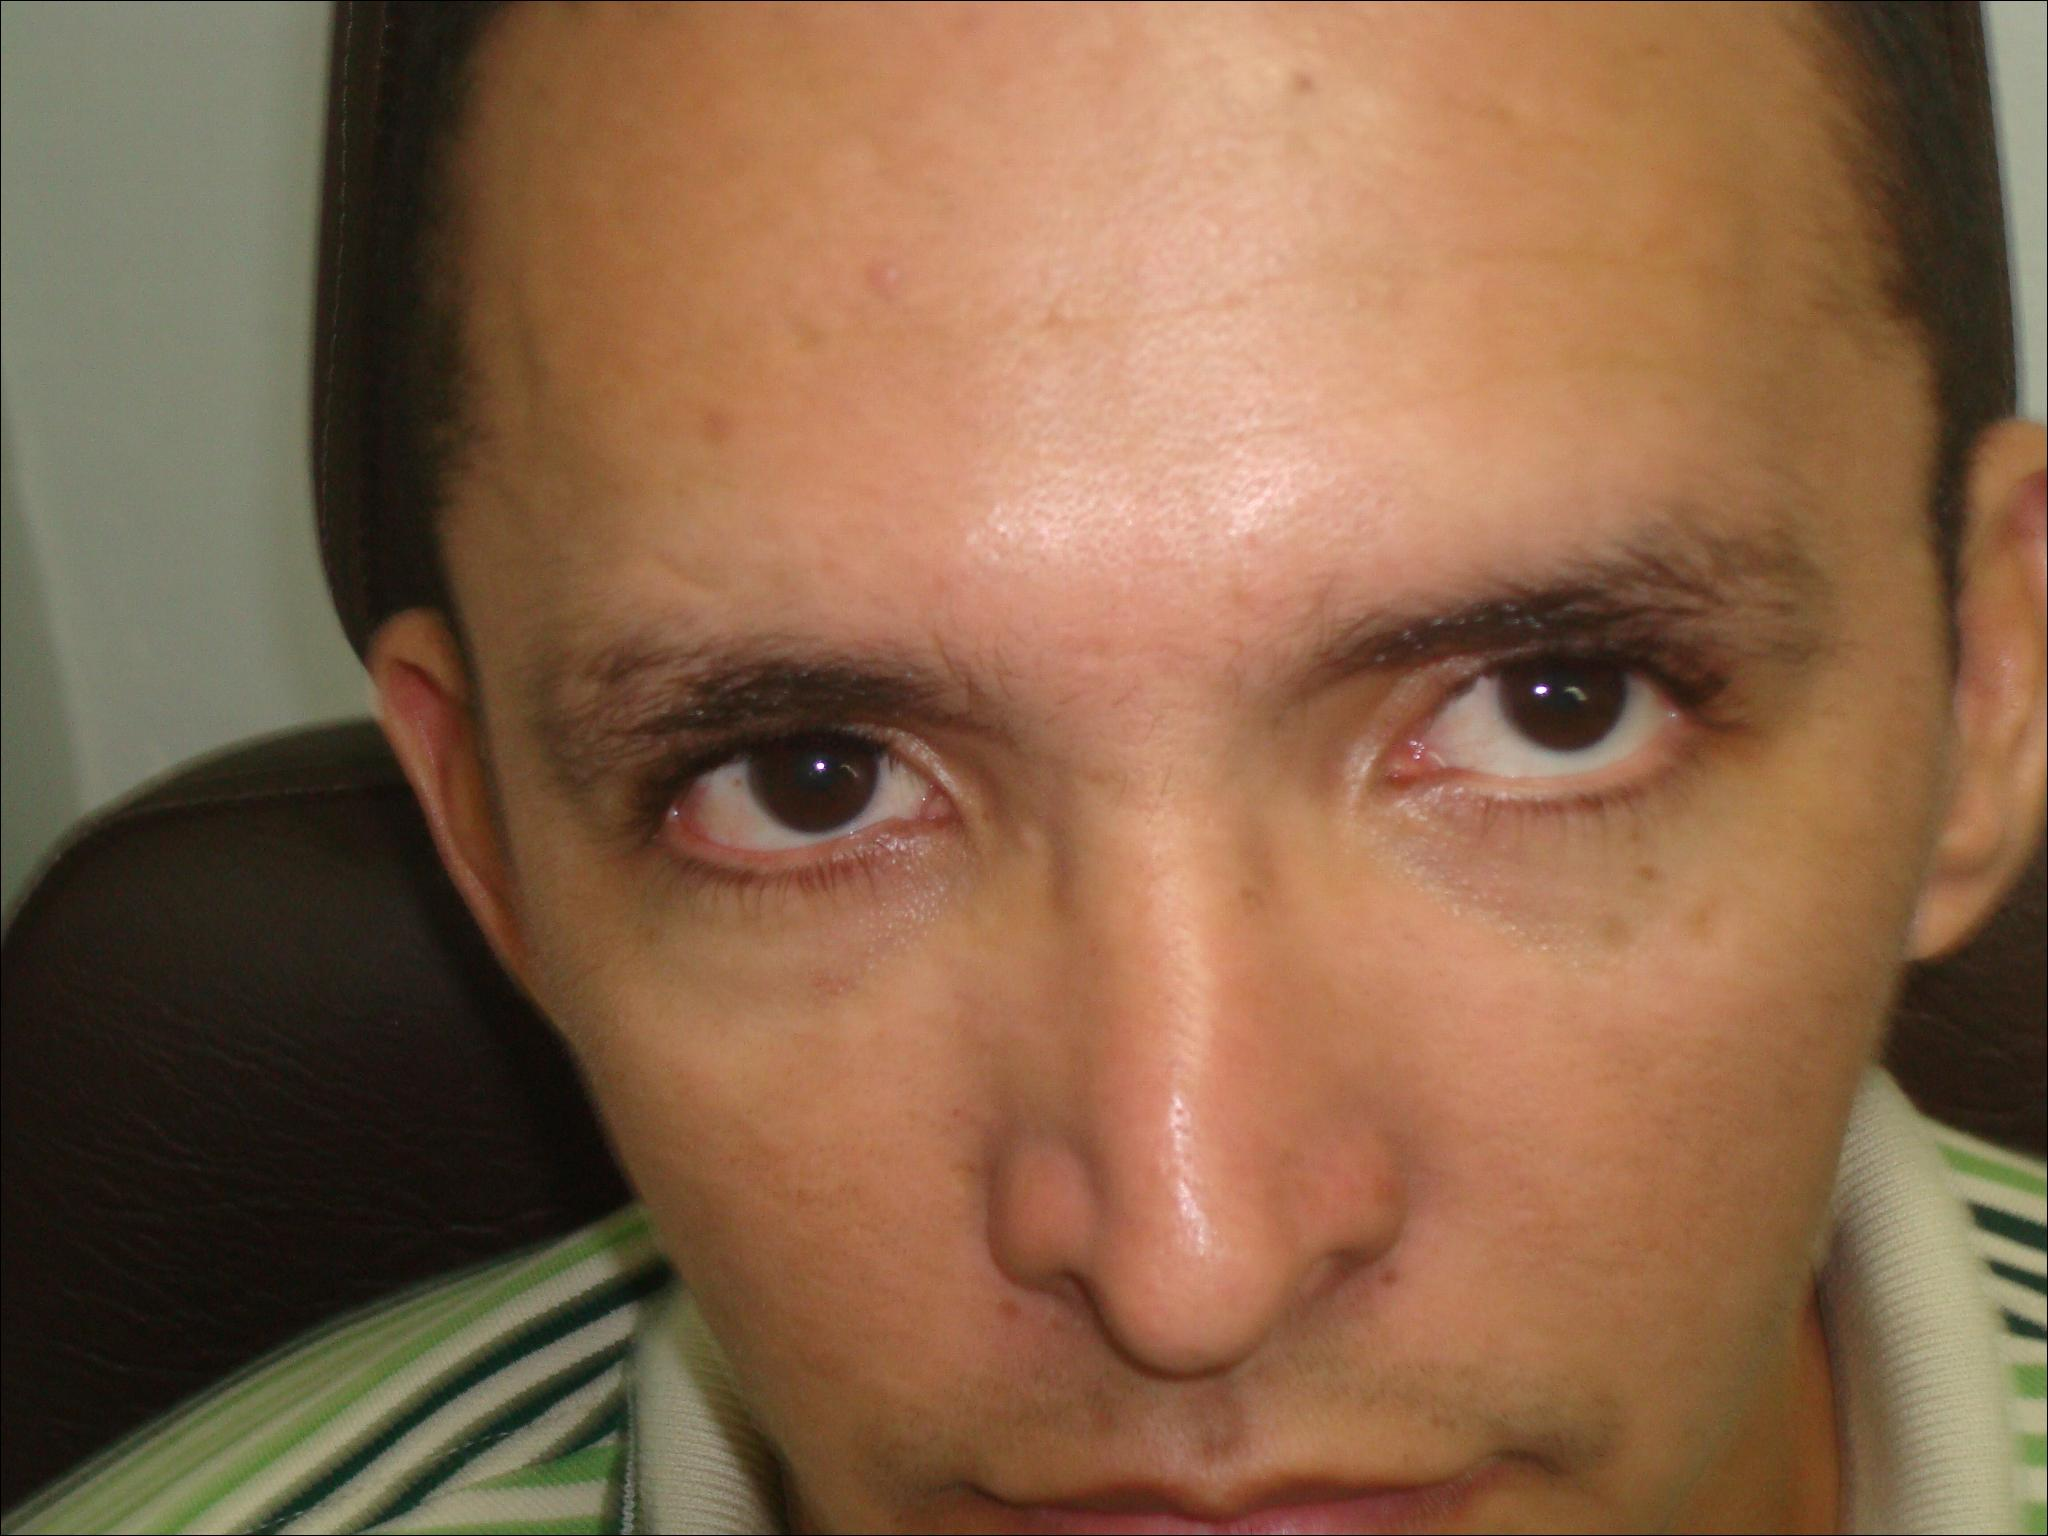flash: (1529, 678, 1553, 702), (810, 755, 830, 778)
limbo: (1496, 626, 1625, 750), (753, 716, 880, 824)
